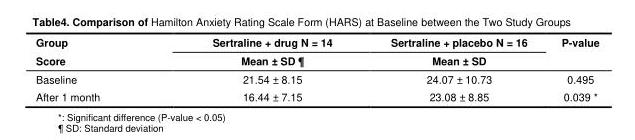table: (35, 34, 598, 103)
table column: (155, 34, 360, 103), (360, 34, 543, 103), (35, 34, 155, 103), (543, 34, 598, 103)
table column header: (35, 34, 598, 69)
table row: (35, 50, 598, 69), (35, 69, 598, 87), (35, 34, 598, 50), (35, 87, 598, 103)
table spanning cell: (155, 34, 360, 69), (360, 34, 543, 69), (35, 34, 155, 69), (543, 34, 598, 69)
